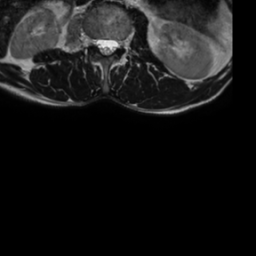CCS_normal: (102, 30, 109, 63)
LFS_normal: (118, 32, 125, 54)
LLS_normal: (110, 31, 118, 57)
RFS_normal: (88, 29, 95, 51)
RLS_normal: (95, 31, 102, 54)
